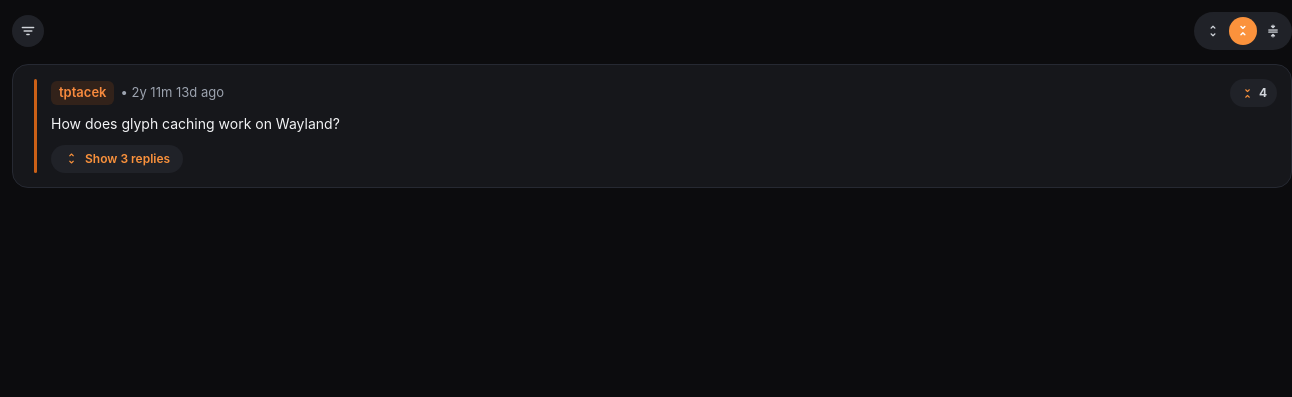
it: CommentTree & Progressive Depth-Gated Rendering › defaults to Collapse Replies (root-only) for fast initial load, and expands nested replies on demand
Expected: the text "tptacek" is shown, left=51, top=81, right=114, bottom=105
Expected: the text "We cache per-monitor DPI" is not shown
What coordinates should you click on to do the following:
click the button named "Expand All"
I would click on:
 (1213, 31)
Its box is left=1199, top=17, right=1227, bottom=45.
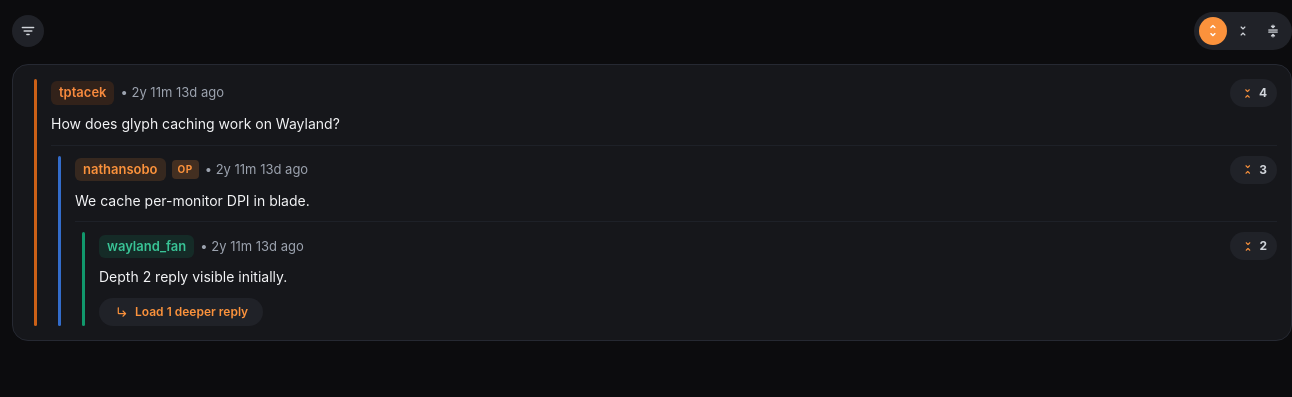
Expected: the text "nathansobo" is shown, left=75, top=158, right=166, bottom=181
Expected: the text "OP" is shown, left=172, top=160, right=199, bottom=179
Expected: the text "Depth 2 reply visible initially." is shown, left=99, top=268, right=287, bottom=285
What coordinates should you click on to do the following:
click the button "Load 1 deeper reply"
I would click on:
 (181, 312)
Its box is left=99, top=298, right=263, bottom=326.
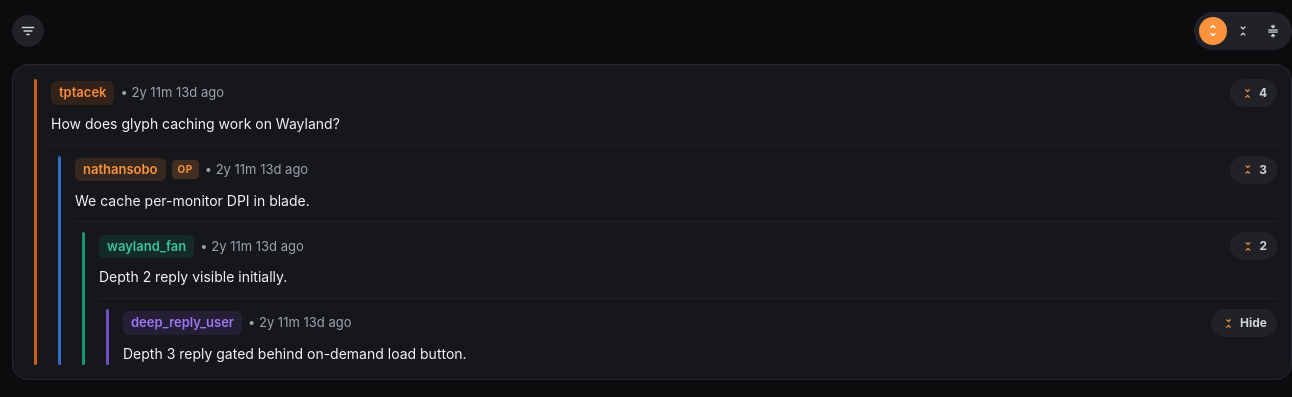
Expected: the text "Depth 3 reply gated behind on-demand load button." is shown, left=123, top=345, right=467, bottom=362
